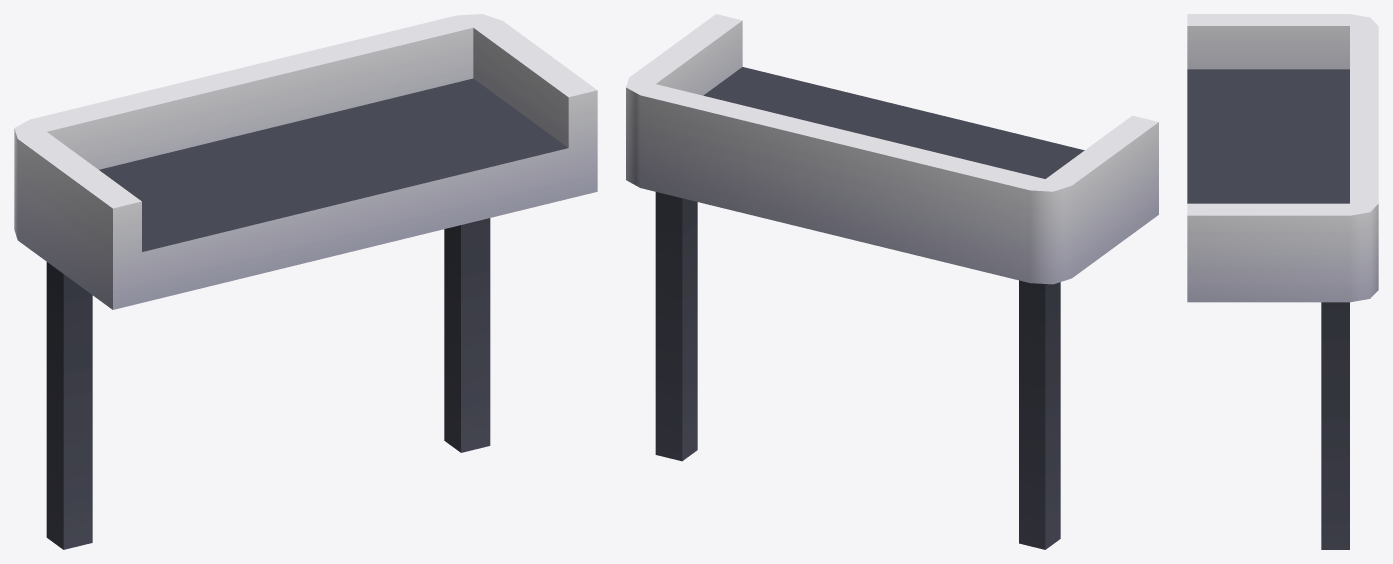
The model's file is detail-overhang.glb.
3 views of the same model, side by side, from view 1: azimuth 30°, elevation 25°; view 2: azimuth 150°, elevation 25°; view 3: azimuth 270°, elevation 25° (orthographic). The views are drawn at different scales.
Visible parts, largest first — view 1: detail-overhang; view 2: detail-overhang; view 3: detail-overhang.
Part boxes in pixels (x1=…): detail-overhang: x1=14, y1=14, x2=597, y2=549; detail-overhang: x1=626, y1=14, x2=1158, y2=549; detail-overhang: x1=1187, y1=14, x2=1378, y2=549.
Size of the model in its own units: 0.5 by 0.4 by 0.2.
Materials: 1 (1 with a texture image).
